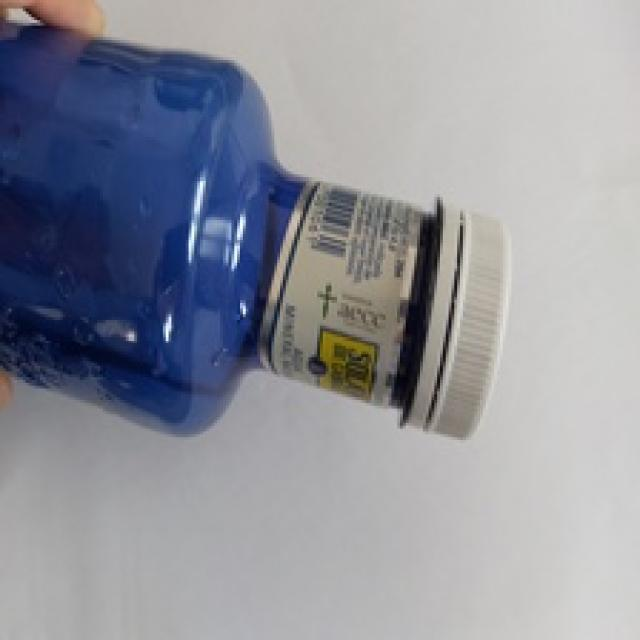Plastic: (0, 28, 511, 442)
